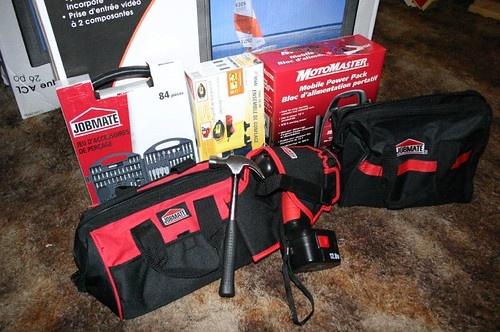hammer: (208, 154, 265, 299)
